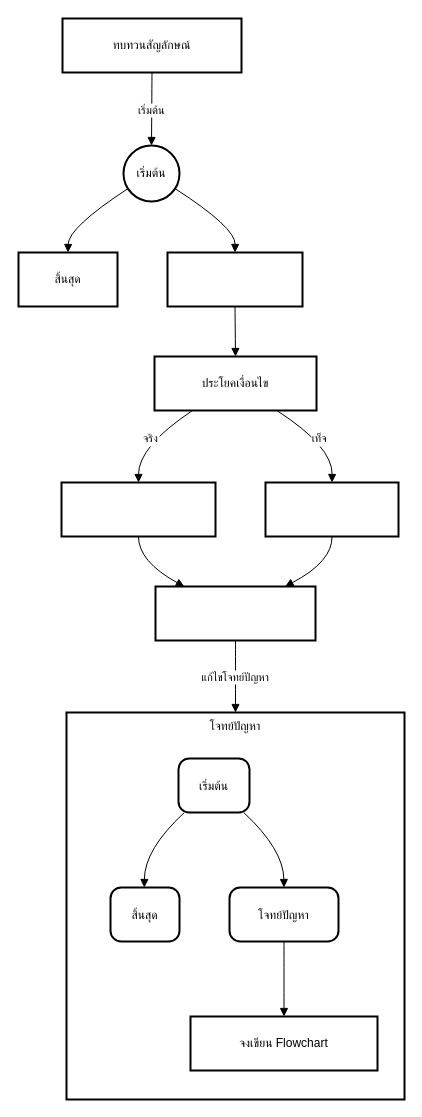
Some shapes in this 422 by 1117 pixel diagram are drawn without their labels. Each missing label, with the box of its shape:
กระบวนการ: (166, 251, 303, 307)
ข้อควรระวัง: (264, 481, 399, 537)
ฟังก์ชัน/โมดูล: (60, 481, 216, 537)
แสดงผล/รับค่า: (154, 585, 316, 641)
